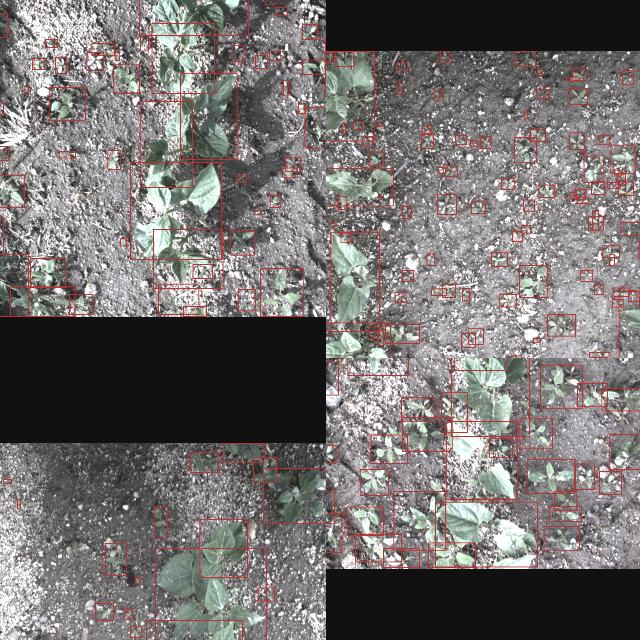crop: (154, 547, 265, 640), (130, 162, 220, 260), (434, 502, 538, 568), (451, 358, 529, 436), (445, 421, 517, 499), (330, 232, 380, 332), (180, 73, 237, 159), (150, 22, 213, 94), (139, 101, 191, 187), (326, 51, 373, 141), (152, 230, 222, 288), (138, 0, 247, 34), (199, 519, 247, 577), (326, 168, 392, 206), (326, 322, 390, 358), (10, 287, 74, 317), (0, 255, 28, 317), (222, 442, 264, 462)
weed: (263, 468, 326, 523), (393, 492, 445, 550), (260, 269, 302, 317), (540, 364, 582, 408), (402, 417, 452, 451), (526, 459, 574, 493), (355, 534, 401, 562), (48, 88, 86, 120), (158, 284, 198, 314), (428, 542, 474, 568), (370, 434, 408, 464), (608, 434, 640, 469), (346, 506, 382, 536), (441, 393, 467, 433), (346, 358, 407, 375), (30, 258, 64, 288), (519, 418, 551, 448), (601, 387, 640, 410), (519, 265, 547, 297), (304, 108, 326, 148), (544, 527, 578, 551), (0, 174, 24, 207), (401, 398, 434, 422), (359, 469, 388, 495), (113, 64, 139, 92), (577, 383, 607, 407), (383, 548, 419, 568), (104, 543, 126, 575), (385, 324, 419, 344), (610, 145, 634, 173), (252, 456, 276, 482), (454, 358, 506, 370), (547, 314, 575, 336), (326, 513, 341, 553), (230, 231, 254, 255), (190, 452, 218, 472), (514, 138, 536, 162), (574, 464, 594, 490), (549, 506, 581, 522), (599, 472, 621, 494), (68, 295, 92, 315), (488, 438, 512, 458), (584, 156, 602, 182), (554, 491, 576, 511), (436, 194, 456, 214), (154, 507, 166, 538), (238, 290, 255, 310), (302, 60, 326, 74), (86, 52, 104, 70), (515, 50, 535, 66), (568, 132, 584, 150), (568, 88, 586, 104), (335, 50, 353, 66), (95, 604, 113, 620), (106, 150, 120, 170), (192, 264, 212, 278), (92, 43, 115, 55), (619, 221, 640, 234), (326, 491, 333, 524), (182, 307, 205, 317), (302, 24, 316, 40), (284, 158, 300, 172), (499, 294, 515, 308), (491, 252, 507, 266), (368, 151, 384, 165), (538, 185, 554, 198), (618, 181, 632, 195), (588, 216, 602, 230), (530, 128, 544, 142), (468, 330, 482, 344), (461, 334, 475, 348), (441, 284, 455, 298), (54, 57, 66, 73), (602, 246, 618, 258), (258, 588, 274, 600), (590, 180, 604, 193), (255, 54, 267, 68), (572, 68, 586, 80), (470, 202, 484, 214), (420, 134, 432, 148), (326, 446, 335, 464), (232, 45, 242, 61), (0, 12, 6, 37), (580, 270, 592, 282), (522, 200, 534, 212), (401, 270, 413, 282), (622, 70, 632, 84), (443, 166, 457, 176), (32, 59, 44, 70), (501, 178, 514, 188), (612, 288, 628, 296), (430, 288, 446, 296), (536, 89, 550, 98), (270, 195, 280, 207), (268, 50, 280, 60), (598, 134, 610, 144), (592, 210, 598, 230), (574, 188, 584, 200), (589, 352, 609, 358), (480, 136, 490, 148), (454, 135, 466, 145), (361, 136, 373, 146), (394, 292, 406, 302), (130, 626, 140, 638), (338, 197, 347, 210), (140, 36, 148, 50), (282, 168, 296, 176), (402, 206, 411, 218), (512, 231, 522, 241), (439, 51, 449, 61), (368, 328, 378, 338), (340, 232, 350, 242), (0, 146, 7, 160), (45, 39, 57, 47), (282, 80, 288, 96), (59, 152, 75, 158), (275, 7, 287, 15), (628, 290, 636, 302), (576, 196, 588, 204), (426, 254, 434, 266), (377, 330, 383, 346), (433, 90, 442, 100), (297, 103, 305, 113), (617, 174, 625, 184), (612, 299, 622, 307), (594, 284, 602, 294), (520, 225, 530, 233), (396, 62, 406, 70), (352, 121, 362, 129), (607, 182, 619, 188), (566, 76, 578, 82), (462, 288, 468, 300), (422, 125, 431, 133), (396, 82, 402, 94), (236, 175, 246, 182), (125, 609, 132, 619), (608, 255, 614, 265), (326, 52, 332, 62), (120, 238, 126, 246), (536, 68, 542, 76), (469, 140, 477, 146), (134, 576, 140, 584), (3, 478, 11, 484), (264, 0, 274, 4), (22, 86, 28, 92), (614, 170, 620, 176), (570, 192, 576, 198), (438, 167, 444, 173), (16, 499, 20, 508), (114, 52, 118, 60), (532, 339, 540, 343), (253, 210, 260, 214), (638, 297, 640, 307), (342, 123, 344, 133), (524, 110, 526, 118), (378, 122, 382, 126), (376, 196, 382, 198), (330, 224, 334, 226), (326, 331, 328, 334), (580, 152, 584, 152)
